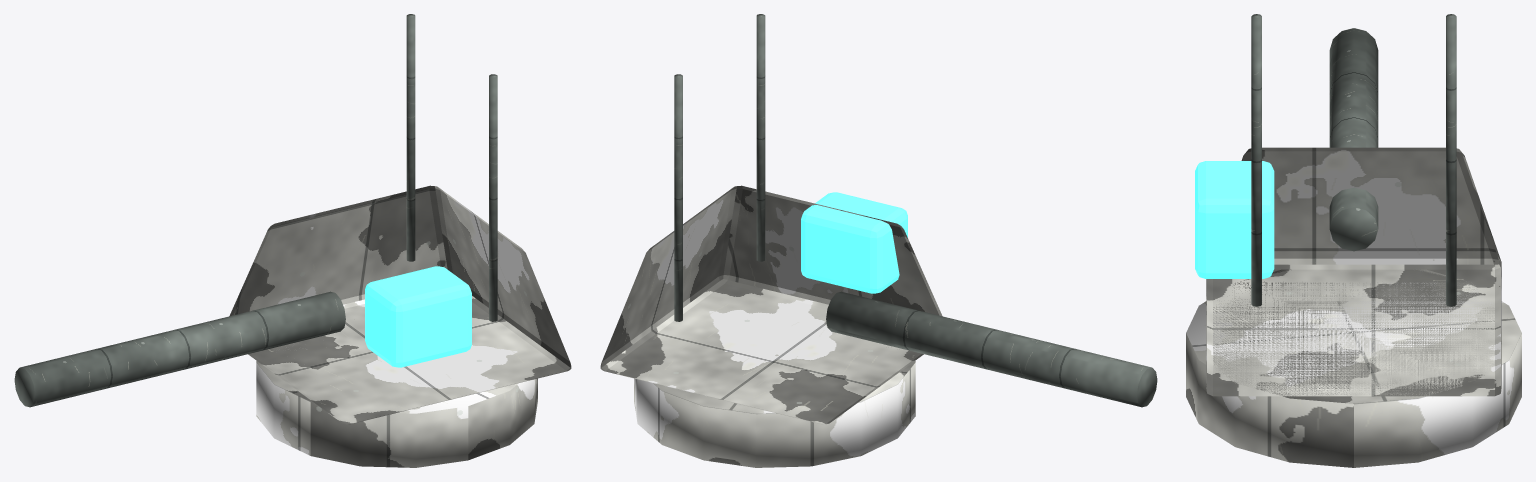
Rendered from scout_car_turret.glb.
The picture shows the model from 3 angles, left to right: view 1: azimuth 30°, elevation 25°; view 2: azimuth 150°, elevation 25°; view 3: azimuth 270°, elevation 25°; orthographic projection. The views are drawn at different scales.
Visible parts, largest first — view 1: scout_car_turret_team_primary, scout_car_turret_factory_metal, scout_car_turret_team_accent, scout_car_turret_glass_emissive; view 2: scout_car_turret_team_primary, scout_car_turret_factory_metal, scout_car_turret_team_accent, scout_car_turret_glass_emissive; view 3: scout_car_turret_team_primary, scout_car_turret_team_accent, scout_car_turret_factory_metal, scout_car_turret_glass_emissive.
Part boxes in pixels (x1=…): scout_car_turret_team_primary: x1=229, y1=185, x2=571, y2=424; scout_car_turret_factory_metal: x1=14, y1=14, x2=497, y2=407; scout_car_turret_team_accent: x1=256, y1=347, x2=537, y2=467; scout_car_turret_glass_emissive: x1=365, y1=266, x2=471, y2=367; scout_car_turret_team_primary: x1=600, y1=185, x2=942, y2=424; scout_car_turret_factory_metal: x1=674, y1=14, x2=1157, y2=407; scout_car_turret_team_accent: x1=634, y1=361, x2=915, y2=467; scout_car_turret_glass_emissive: x1=801, y1=192, x2=907, y2=293; scout_car_turret_team_primary: x1=1206, y1=147, x2=1501, y2=396; scout_car_turret_team_accent: x1=1186, y1=269, x2=1521, y2=467; scout_car_turret_factory_metal: x1=1251, y1=14, x2=1456, y2=306; scout_car_turret_glass_emissive: x1=1195, y1=161, x2=1274, y2=278.
Bounding box in the file's own units: 1.17 × 0.7858 × 0.5798.
Materials: 4 (3 with a texture image).
